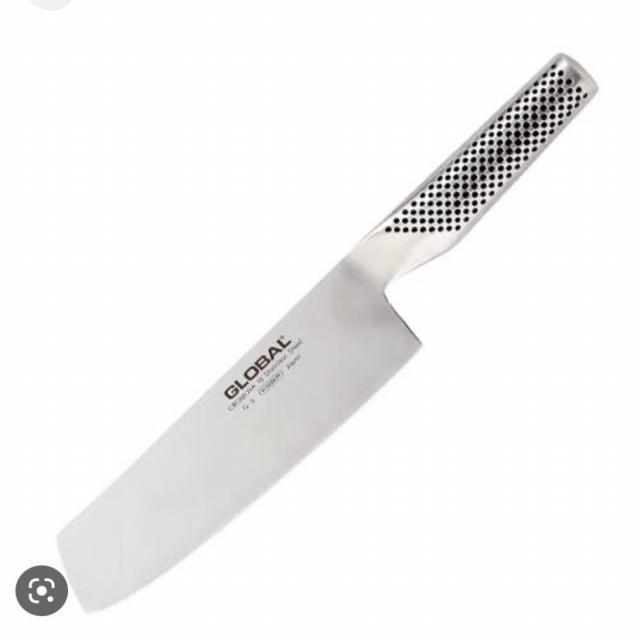Knife: (58, 46, 604, 619)
